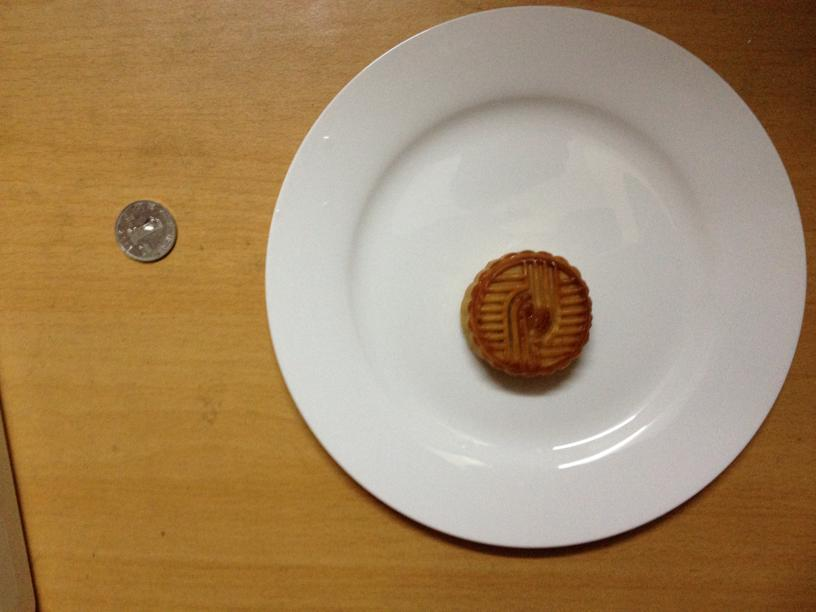coin: (112, 199, 177, 264)
mooncake: (460, 248, 594, 379)
